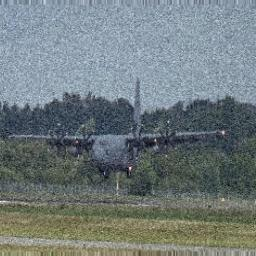Airplane: (11, 93, 224, 176)
